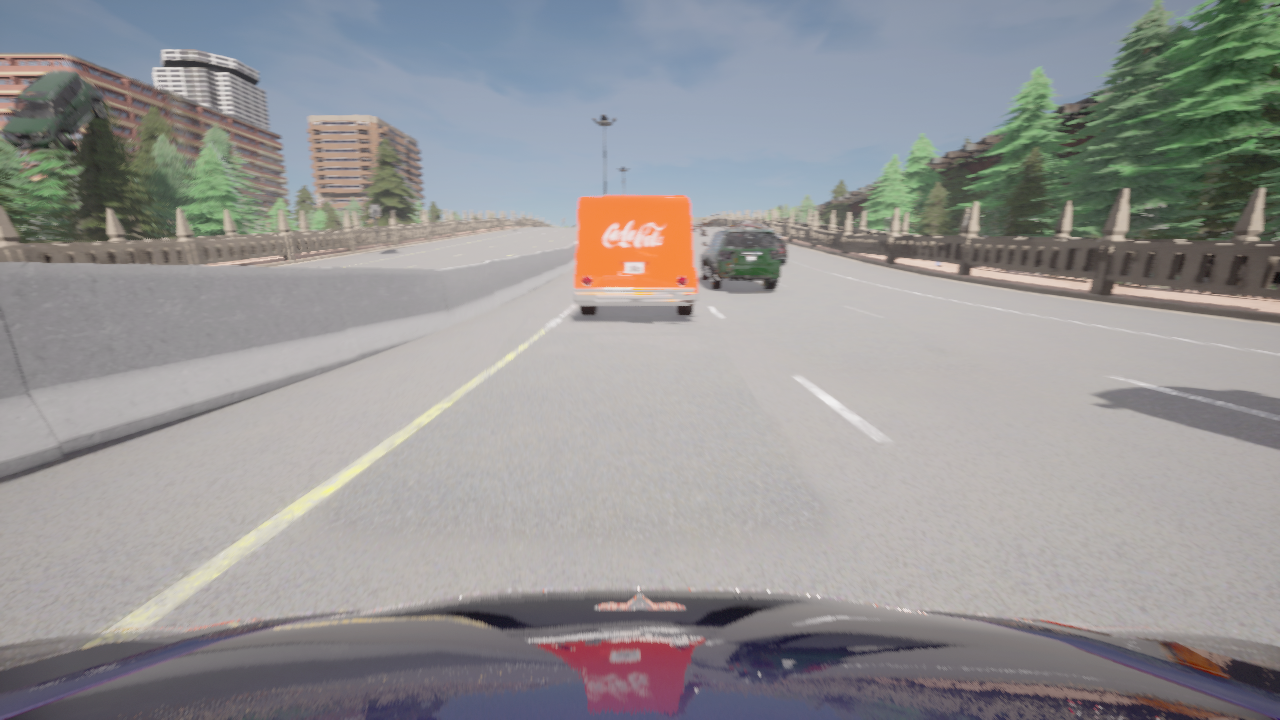cyclist: (0, 588, 1279, 719), (572, 196, 698, 315), (2, 71, 107, 150), (700, 228, 779, 289), (773, 234, 786, 263), (731, 220, 768, 228), (691, 222, 701, 231), (701, 226, 705, 234), (728, 227, 730, 228)
pedestrian: (935, 262, 940, 266)
